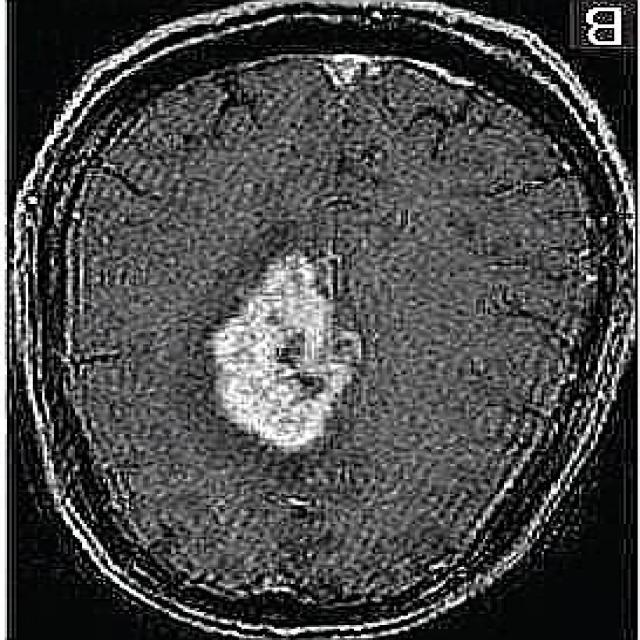Tumor-Cell: (214, 229, 384, 453)
